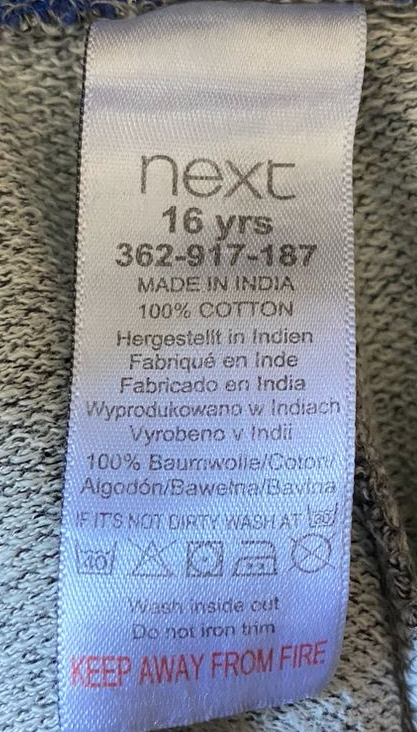do_not_bleach: (127, 533, 182, 580)
do_not_dry_clean: (286, 532, 339, 579)
ironing_at_med_temp: (230, 536, 281, 581)
tumble_drying_low_temps: (182, 537, 227, 582)
wash_at_or_below_30: (306, 501, 339, 529)
wash_at_or_below_40: (70, 536, 120, 580)
